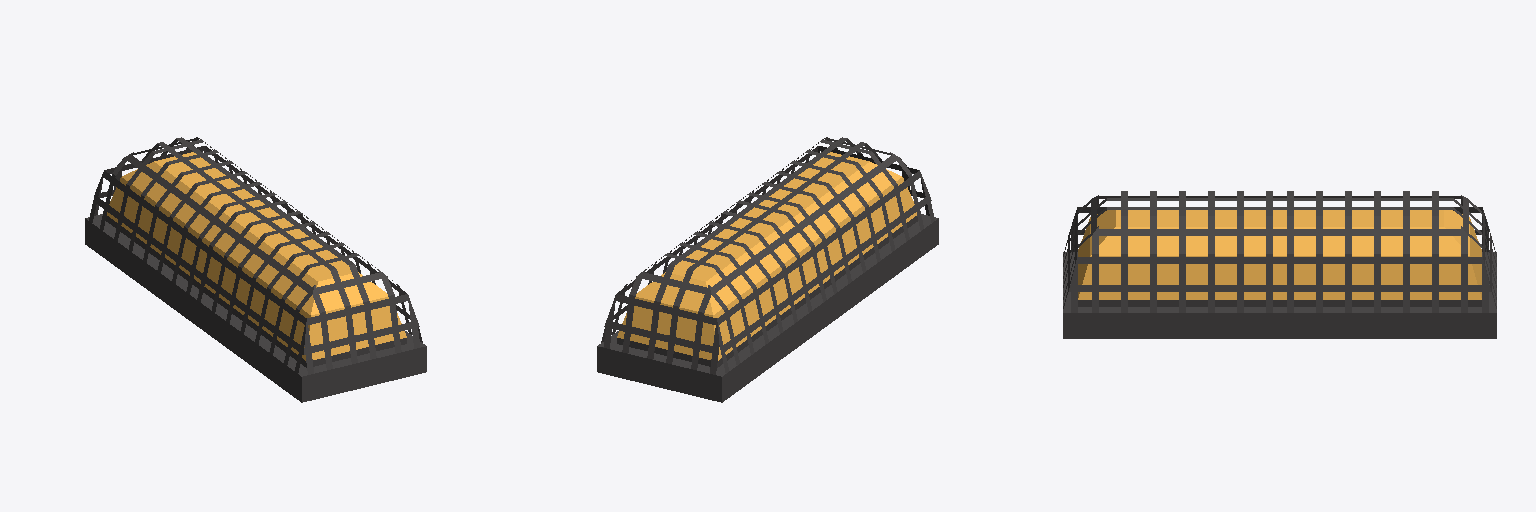
The picture shows the model from 3 angles: view 1: azimuth 30°, elevation 25°; view 2: azimuth 150°, elevation 25°; view 3: azimuth 270°, elevation 25°; orthographic projection.
Parts seen in each view (by area): view 1: Shell, Light; view 2: Shell, Light; view 3: Shell, Light.
Boxes of the visible parts, <box> form: Shell: <box>85,137,426,402</box>; Light: <box>106,152,406,367</box>; Shell: <box>597,137,938,402</box>; Light: <box>617,152,917,367</box>; Shell: <box>1063,191,1496,338</box>; Light: <box>1078,210,1481,306</box>.
Size of the model in its own units: 0.625 by 0.5 by 1.88.
1 materials, 1 textured.